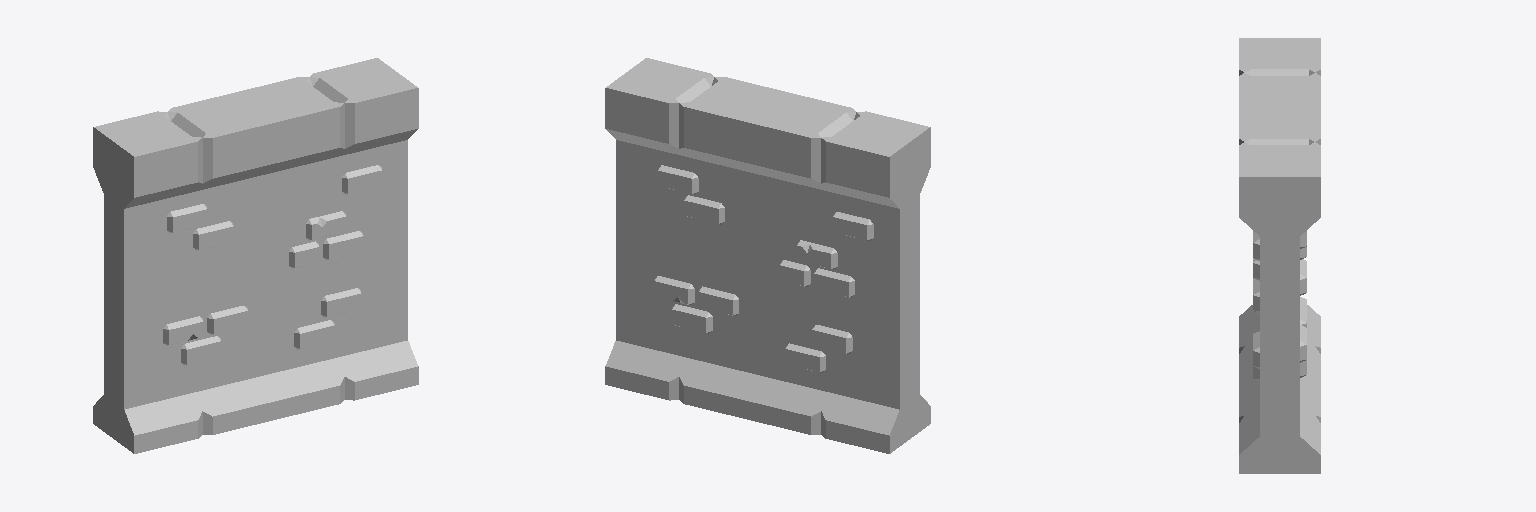
File: wall.obj
3 renders of one model, left to right at view 1: azimuth 30°, elevation 25°; view 2: azimuth 150°, elevation 25°; view 3: azimuth 270°, elevation 25°, orthographic.
Parts seen in each view (by area): view 1: wall; view 2: wall; view 3: wall.
Boxes of the visible parts, x1=… form: wall: x1=93, y1=58, x2=418, y2=453; wall: x1=605, y1=58, x2=930, y2=453; wall: x1=1239, y1=38, x2=1320, y2=473.
Size of the model in its own units: 4 by 4 by 1.